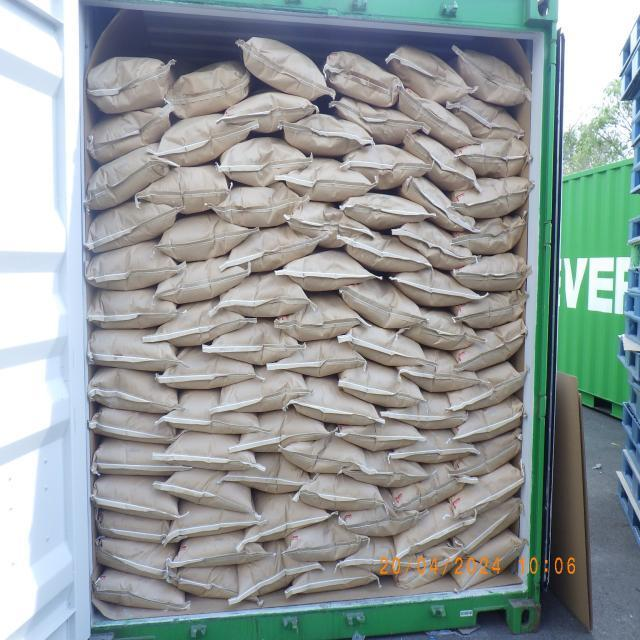gunny_bag: (230, 538, 322, 606), (235, 36, 331, 101), (88, 141, 174, 210), (152, 112, 254, 168), (87, 105, 174, 168), (86, 56, 176, 116), (88, 196, 181, 254), (165, 60, 250, 121), (392, 501, 474, 564), (86, 240, 185, 292), (450, 528, 528, 594), (388, 46, 472, 107), (242, 490, 330, 548), (160, 210, 258, 262), (150, 298, 250, 348), (222, 226, 320, 277), (214, 363, 311, 414), (220, 136, 314, 188), (139, 166, 232, 218), (453, 48, 532, 108), (394, 90, 472, 150), (205, 320, 302, 368), (217, 272, 314, 320), (215, 182, 312, 230), (282, 154, 378, 202), (158, 256, 252, 305), (160, 345, 258, 392), (274, 290, 364, 341), (402, 128, 476, 190), (322, 51, 402, 108), (450, 461, 526, 521), (236, 406, 331, 454), (293, 374, 382, 425), (338, 276, 422, 330), (332, 96, 419, 148), (158, 468, 256, 514), (162, 390, 262, 435), (91, 473, 182, 522), (391, 216, 476, 268), (92, 568, 188, 614), (88, 366, 180, 414), (339, 144, 431, 192), (280, 424, 370, 473), (288, 200, 376, 250), (163, 501, 264, 544), (454, 498, 524, 560), (400, 176, 476, 233), (446, 360, 529, 412), (278, 250, 376, 294), (97, 537, 183, 587), (283, 512, 368, 562), (283, 113, 375, 159), (162, 428, 258, 472), (336, 359, 422, 408), (454, 317, 528, 373), (339, 231, 429, 277), (339, 322, 428, 368), (89, 328, 182, 372), (88, 286, 180, 330), (170, 530, 265, 572), (226, 89, 318, 132), (391, 463, 468, 514), (93, 436, 190, 476), (272, 338, 368, 378), (390, 266, 480, 308), (398, 347, 481, 392), (340, 192, 433, 232), (224, 454, 312, 496), (452, 178, 534, 222), (397, 537, 465, 590), (295, 472, 385, 512), (446, 94, 524, 140), (90, 406, 178, 446), (334, 411, 422, 451), (290, 559, 380, 598), (452, 429, 522, 479), (454, 395, 524, 444), (344, 448, 429, 488), (451, 252, 531, 294), (338, 494, 418, 536), (399, 310, 476, 353), (454, 136, 530, 178), (386, 394, 469, 432), (453, 288, 528, 330), (391, 430, 477, 466), (452, 216, 527, 256), (95, 510, 175, 546), (338, 538, 406, 576), (471, 526, 526, 572), (170, 566, 239, 602)
